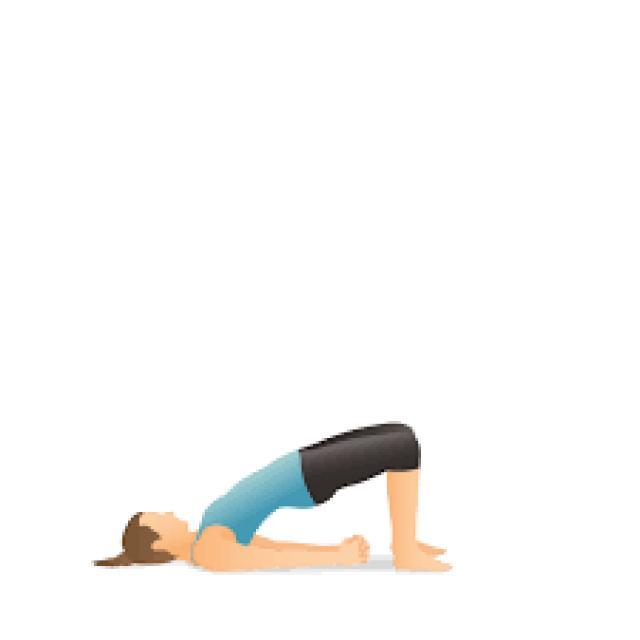yoga-pose bridge: (93, 414, 438, 584)
